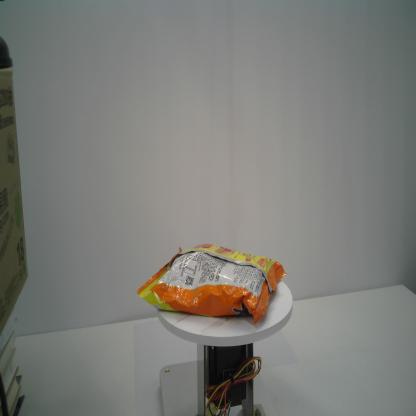Instant Noodles: (134, 241, 288, 326)
